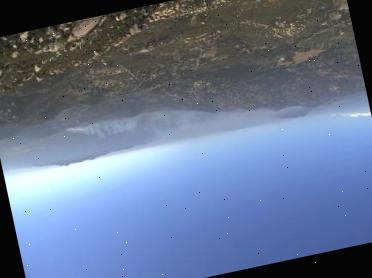smoke: (65, 88, 256, 164)
